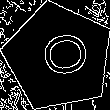O_W: (29, 31, 88, 83)
